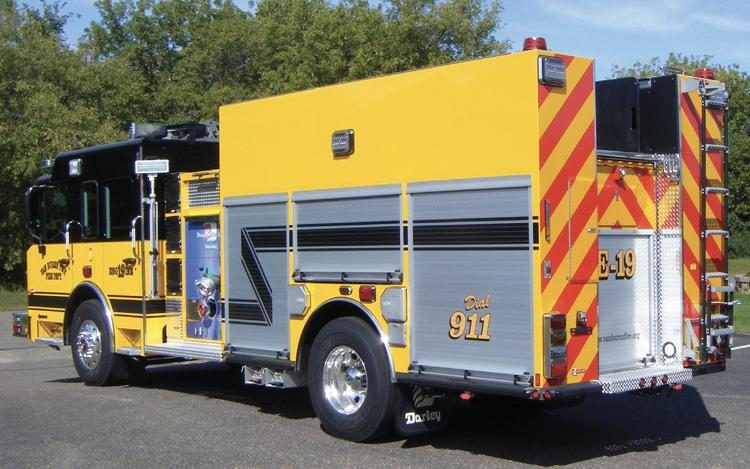firetruck_off: (12, 37, 740, 441)
